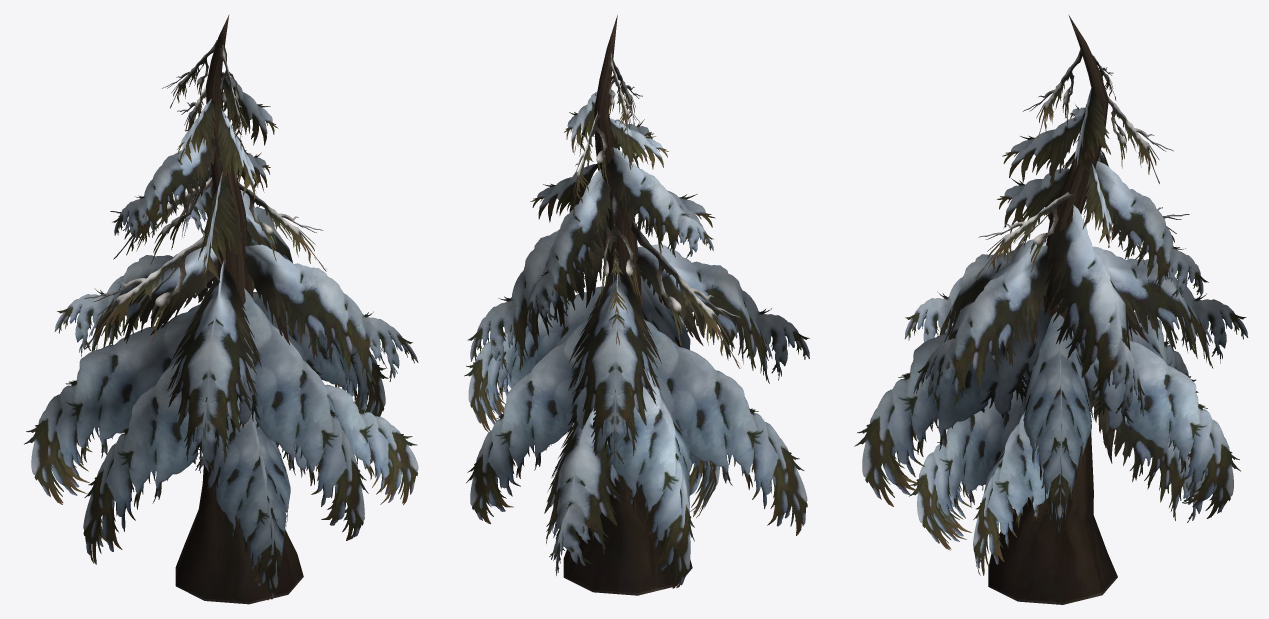
3 renders of one model, left to right at view 1: azimuth 30°, elevation 25°; view 2: azimuth 150°, elevation 25°; view 3: azimuth 270°, elevation 25°, orthographic.
Size of the model in its own units: 7.06 by 11.15 by 7.34.
2 materials, 2 textured.
